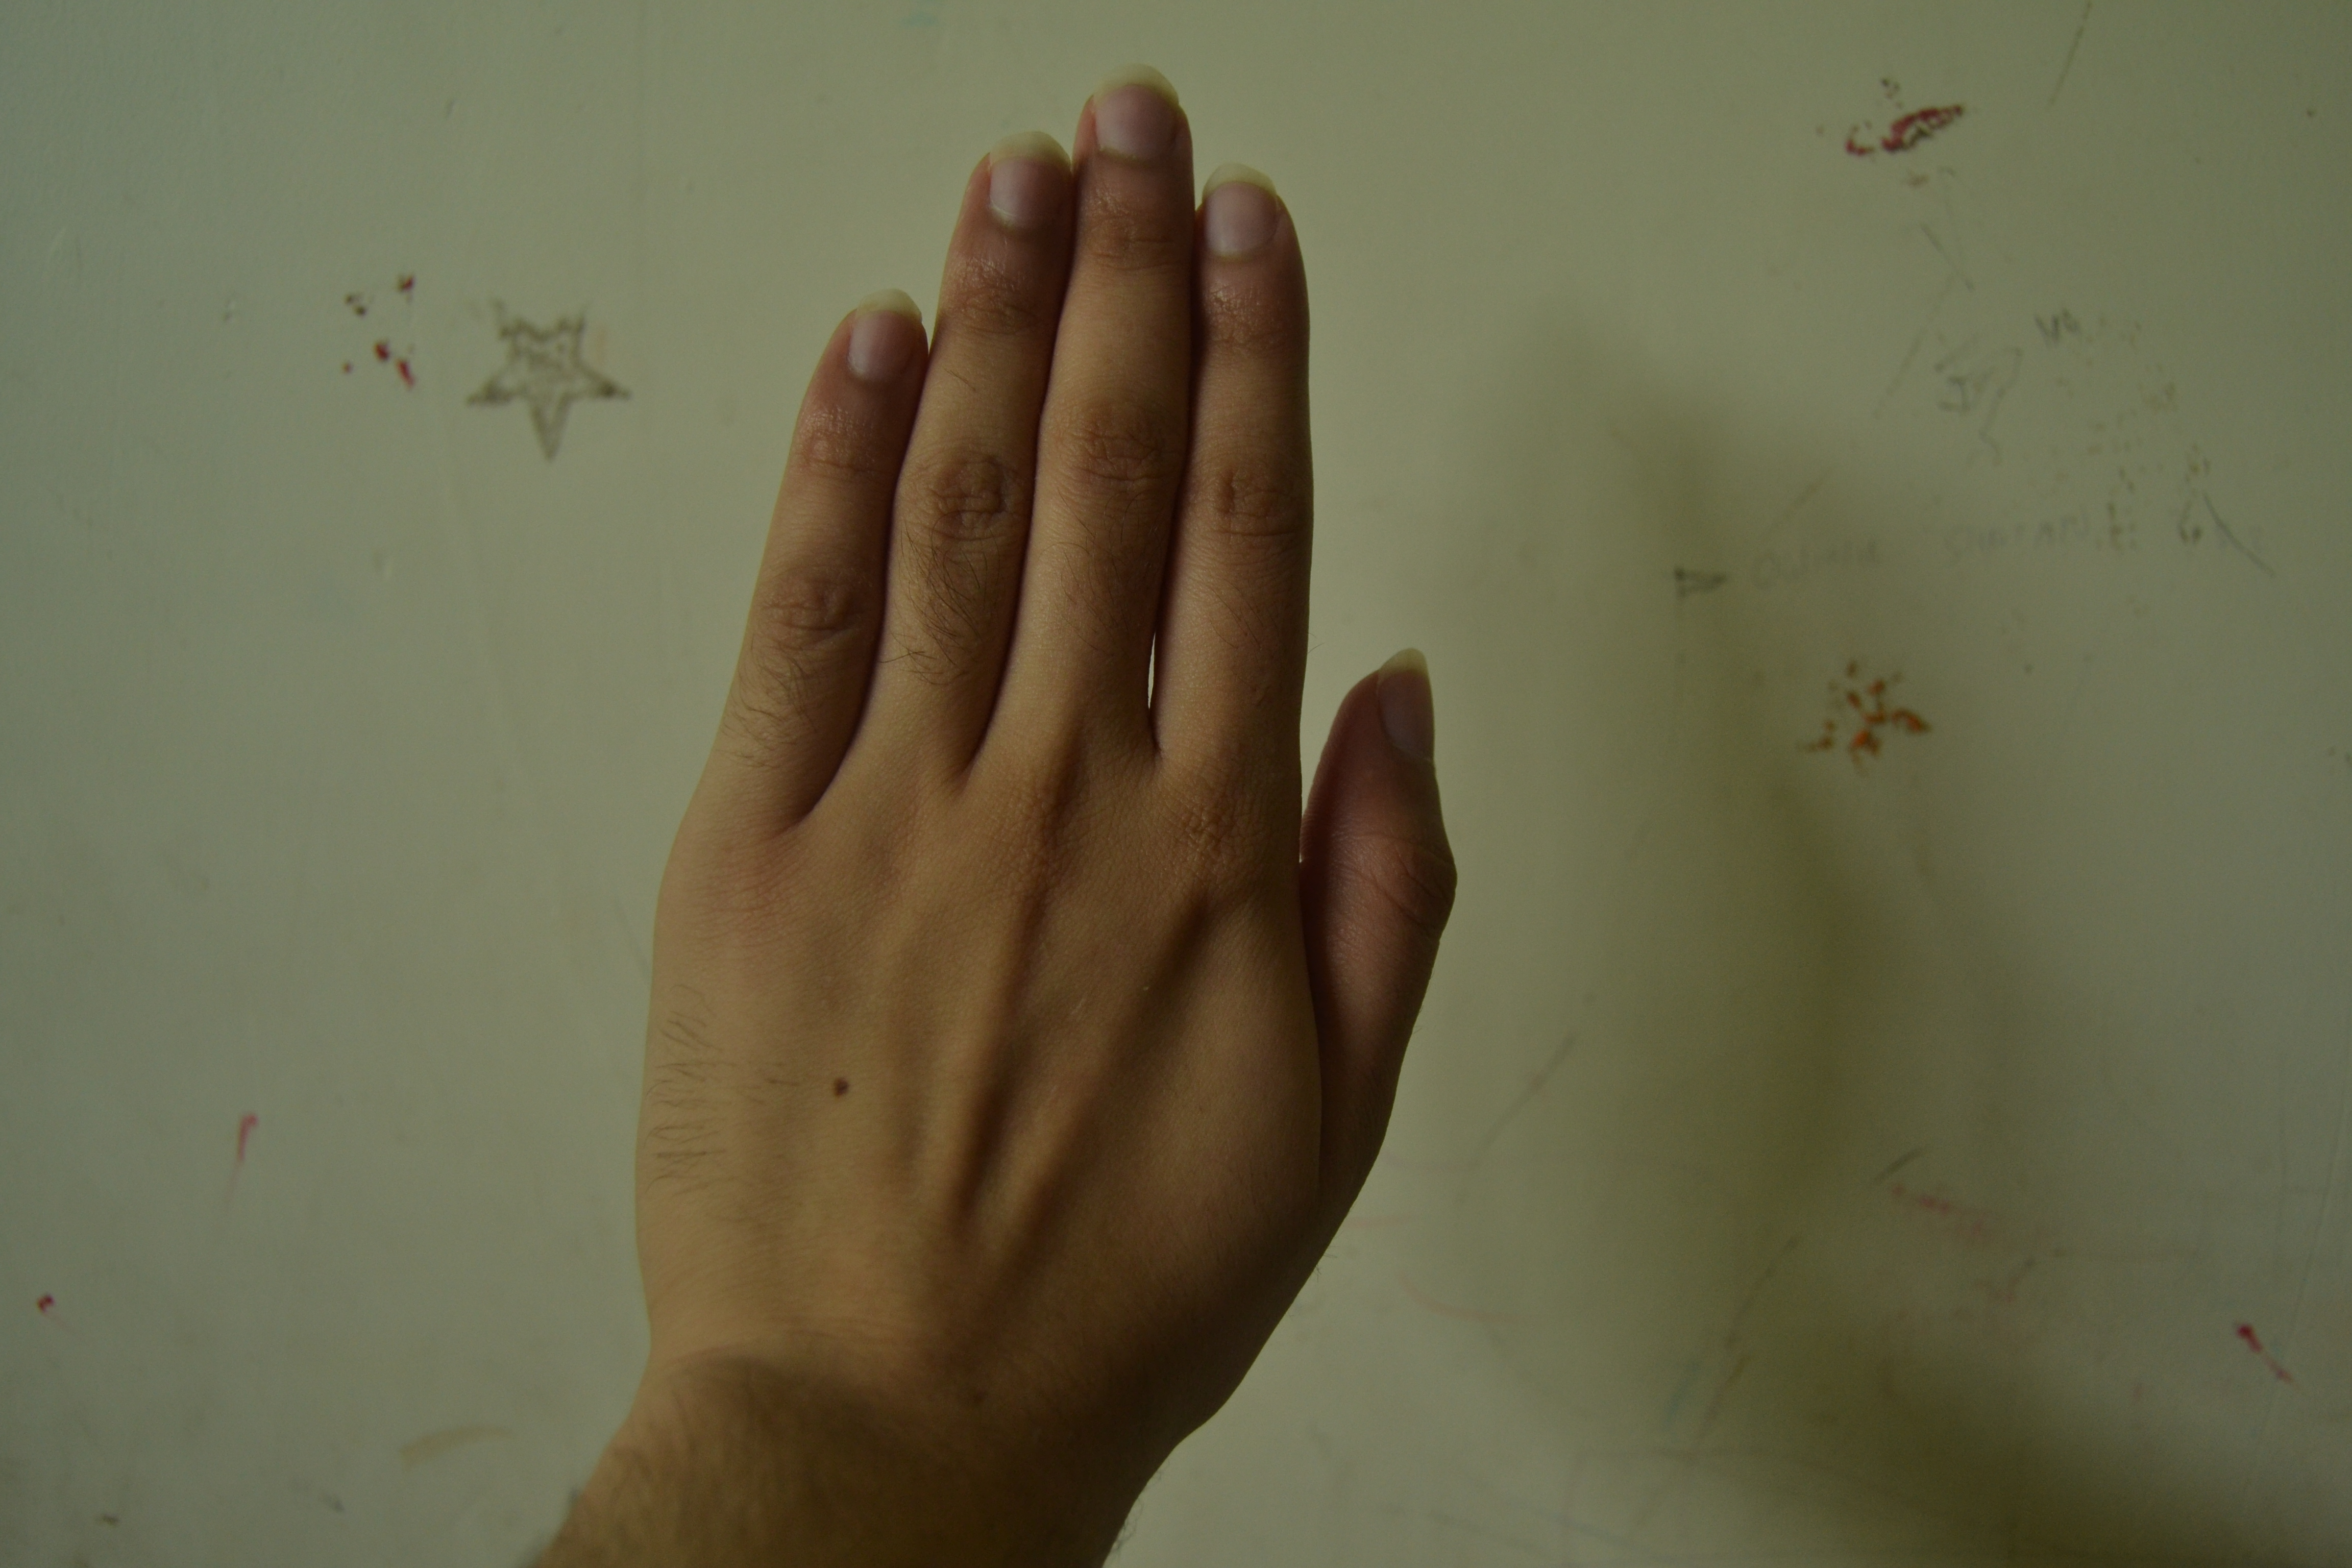move: (625, 51, 1505, 1396)
